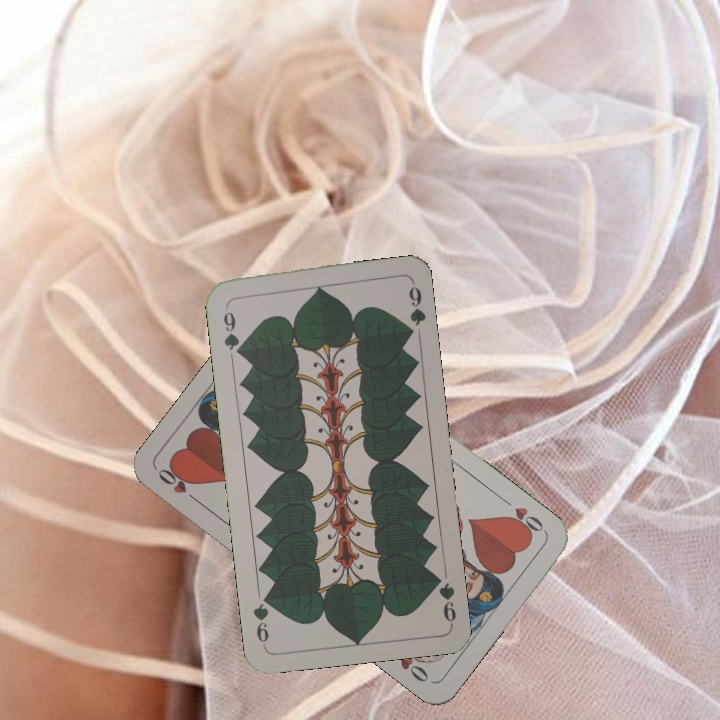G9: (429, 569, 459, 627), (219, 300, 245, 359)
HO: (497, 493, 548, 539), (153, 462, 204, 507)
